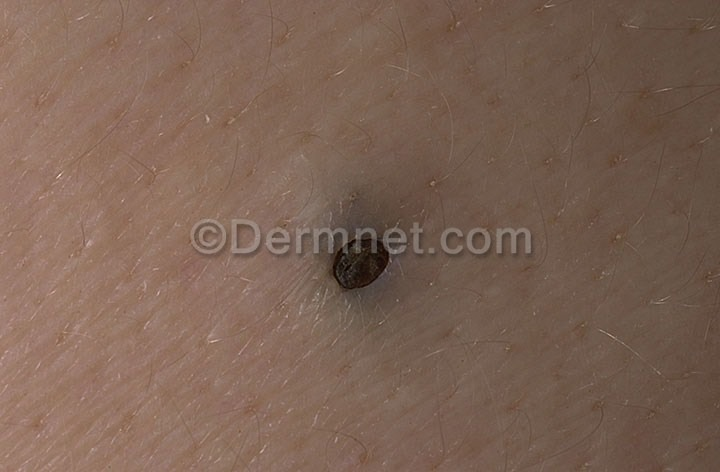Acne: (297, 205, 458, 334)
